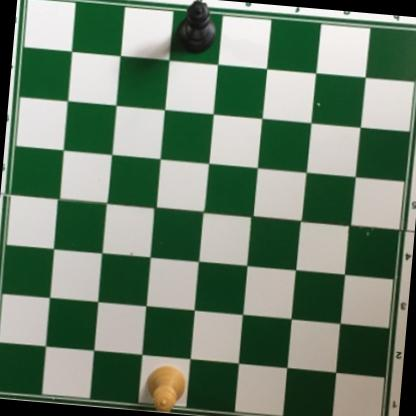black-queen: (173, 0, 222, 58)
white-queen: (143, 361, 189, 415)
